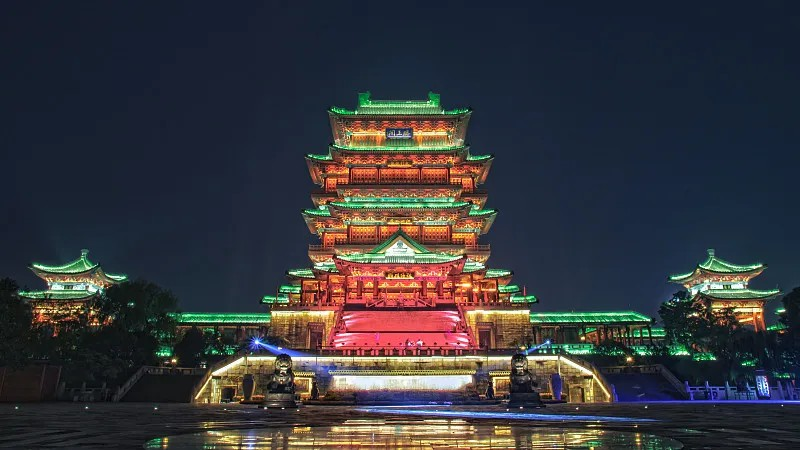Teng: (261, 90, 539, 312)
